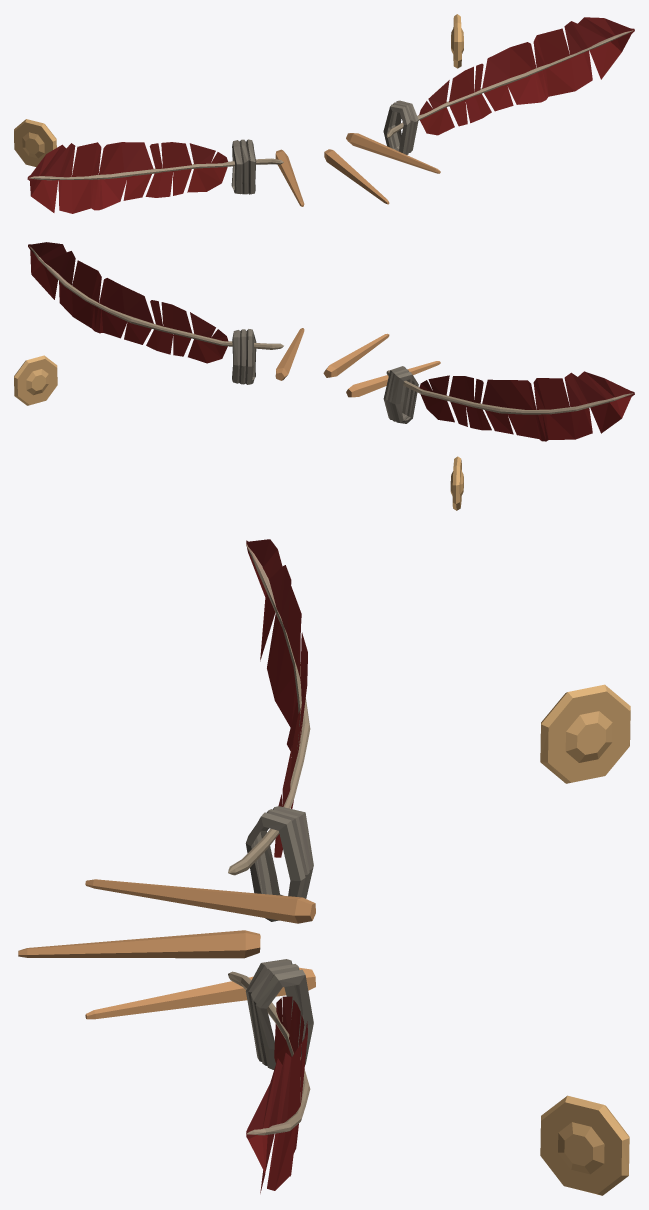
The model's file is smallCrossbowAztecTip.glb.
The picture shows the model from 3 angles, top to bottom: view 1: azimuth 30°, elevation 25°; view 2: azimuth 150°, elevation 25°; view 3: azimuth 270°, elevation 25°; orthographic projection. The views are drawn at different scales.
Visible parts, largest first — view 1: smallCrossbowAztecTip; view 2: smallCrossbowAztecTip; view 3: smallCrossbowAztecTip.
Part boxes in pixels (box(x1,y1,x2,y2)): smallCrossbowAztecTip: box(14, 14, 634, 213); smallCrossbowAztecTip: box(14, 242, 634, 510); smallCrossbowAztecTip: box(18, 539, 630, 1195).
Size of the model in its own units: 0.5533 by 0.0827 by 0.2417.
